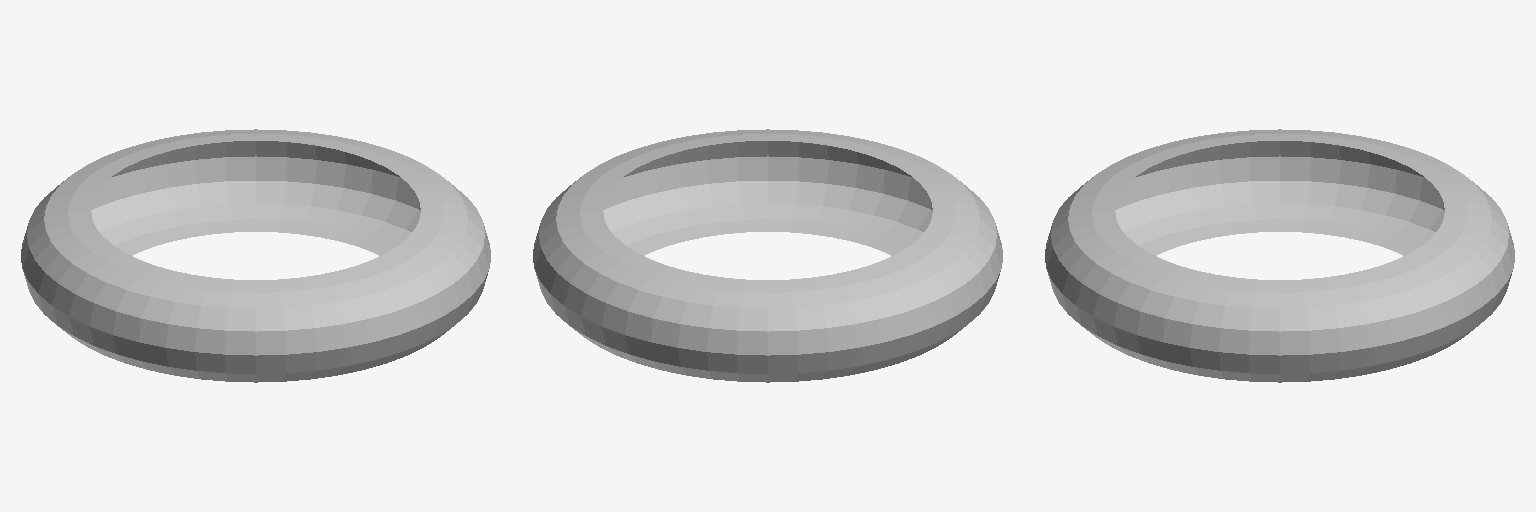
The model's file is SpaceStationGround.obj.
The picture shows the model from 3 angles: view 1: azimuth 30°, elevation 25°; view 2: azimuth 150°, elevation 25°; view 3: azimuth 270°, elevation 25°; orthographic projection.
Visible parts, largest first — view 1: Torus; view 2: Torus; view 3: Torus.
Part boxes in pixels (bbox=[...]): Torus: bbox=[21, 129, 490, 382]; Torus: bbox=[533, 129, 1002, 382]; Torus: bbox=[1045, 129, 1514, 382].
Bounding box in the file's own units: 2.5 × 0.5336 × 2.5.